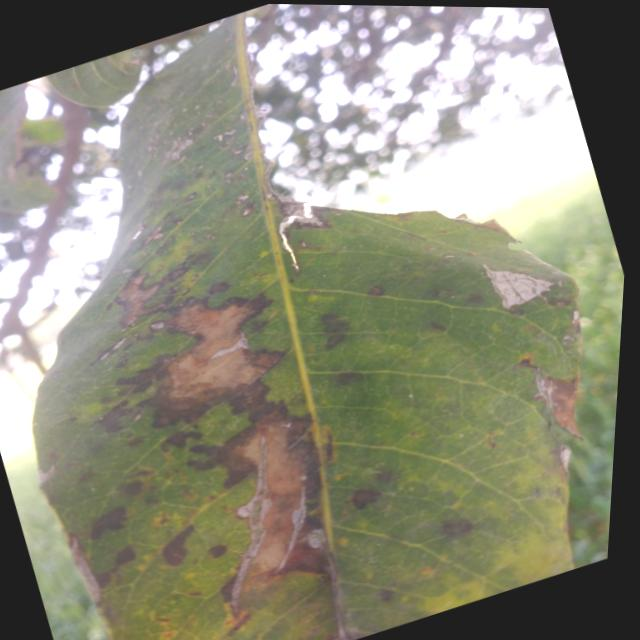Anthracnose: (127, 279, 294, 427), (474, 263, 554, 319), (533, 367, 581, 440), (157, 519, 202, 570), (83, 504, 133, 545), (95, 398, 139, 439), (173, 401, 210, 446), (318, 309, 353, 350), (158, 424, 202, 455), (347, 480, 382, 514), (439, 516, 474, 540), (225, 611, 252, 638), (110, 543, 138, 569), (334, 367, 364, 388), (117, 479, 144, 500), (92, 568, 115, 589), (75, 467, 95, 488), (206, 542, 229, 560), (375, 469, 398, 486), (366, 283, 385, 301), (207, 281, 230, 295), (324, 431, 334, 463), (466, 291, 484, 305), (249, 319, 268, 332), (377, 589, 394, 602), (428, 321, 446, 331), (127, 438, 142, 447)
Bacterial Cancer: (203, 419, 339, 577)
